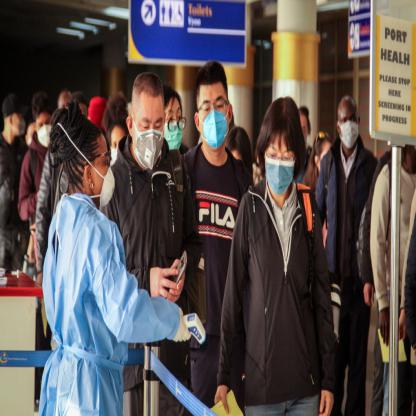Wearing_Mask: (198, 91, 228, 152), (132, 113, 164, 168), (263, 142, 294, 198), (92, 148, 114, 204), (164, 105, 184, 150), (339, 110, 359, 148), (36, 116, 52, 147)
